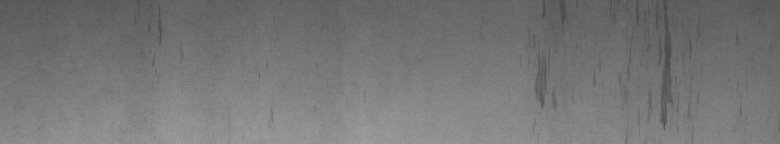ka: (636, 4, 692, 132)
